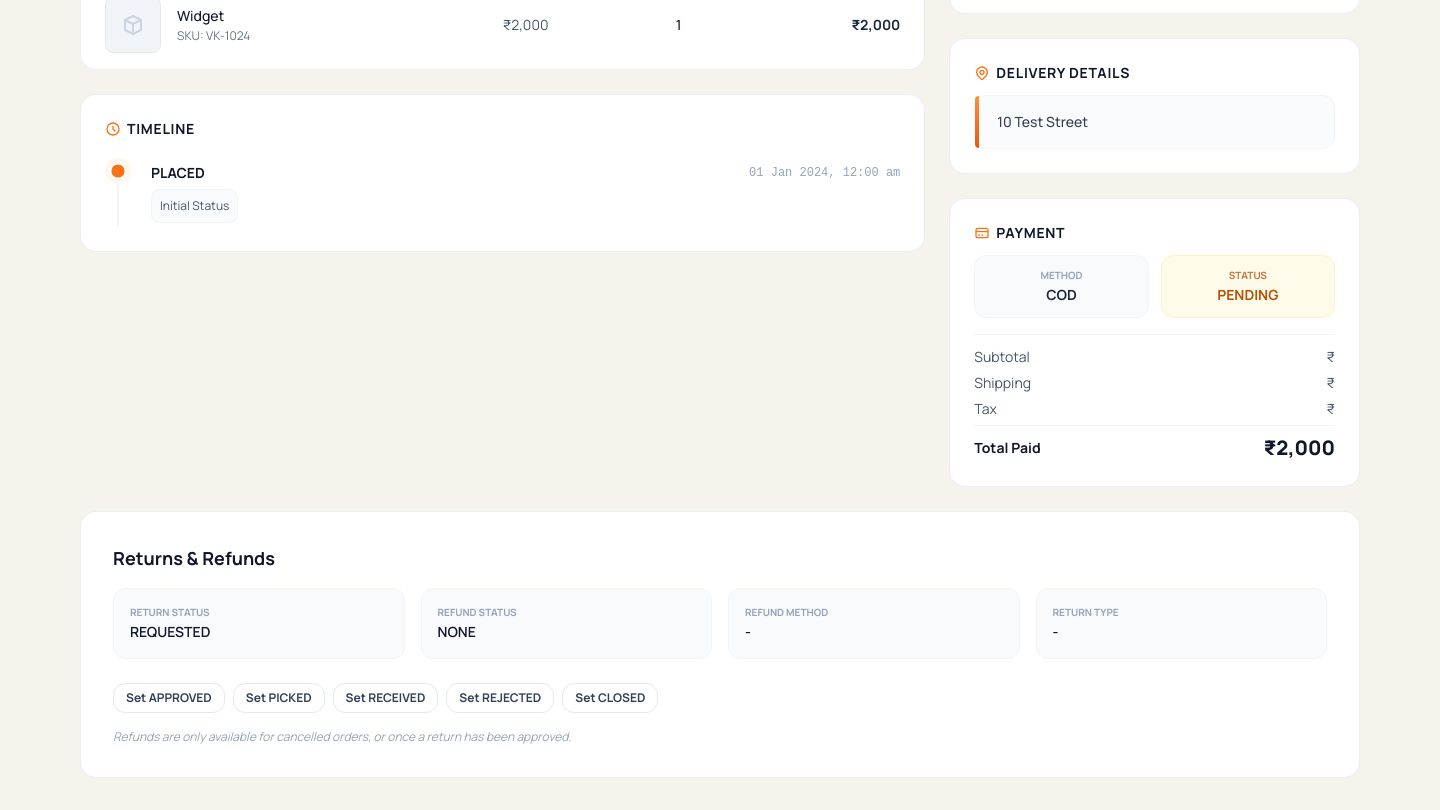
AdminOrderDetails Component › updates the return status once a return has been requested
(page scrolled)
Click the button "Set APPROVED" at (169, 698), box top-left (113, 683), bottom-right (225, 713)
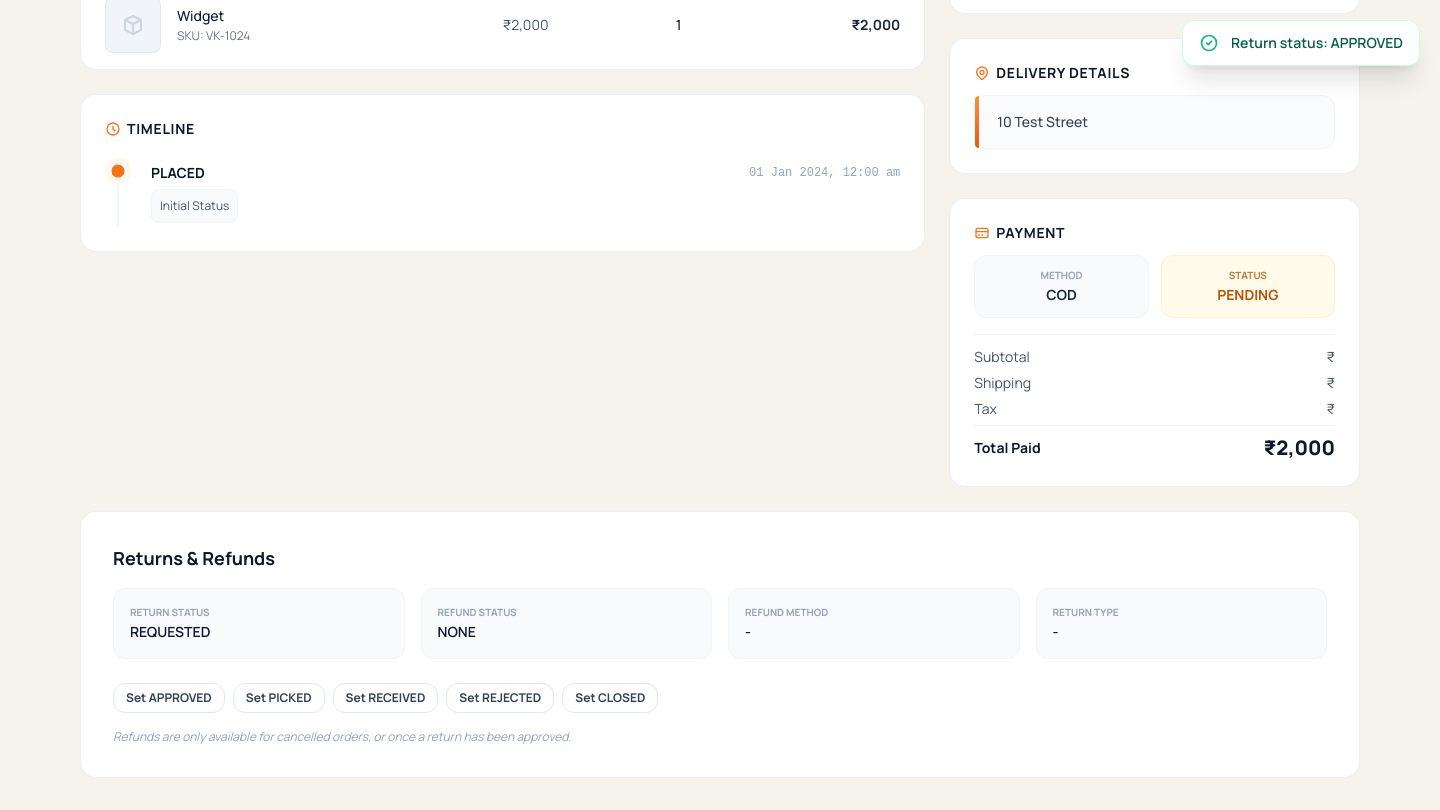
Now the text "Return status: APPROVED" is shown, box top-left (1231, 33), bottom-right (1403, 53)
